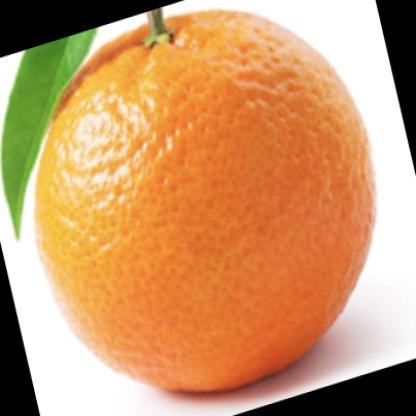fresh: (34, 9, 375, 393)
